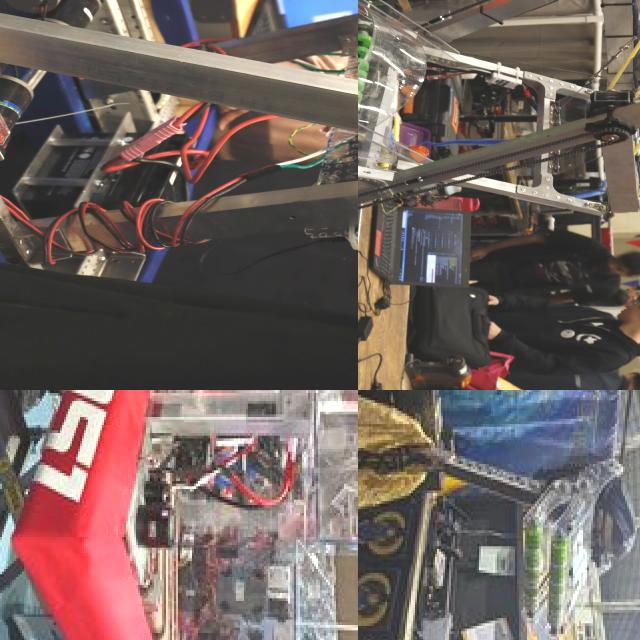FRC-Robots: (0, 0, 358, 347), (0, 390, 358, 640), (358, 390, 640, 640), (358, 0, 640, 214)
